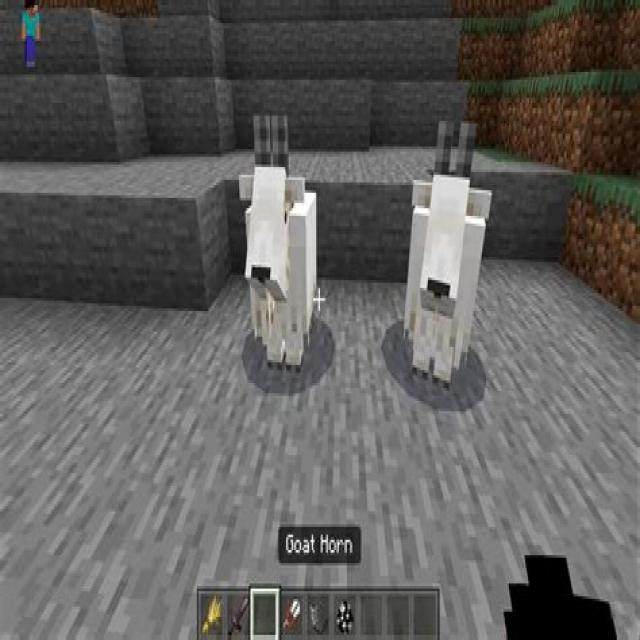Goat: (399, 106, 493, 400), (235, 106, 325, 376)
